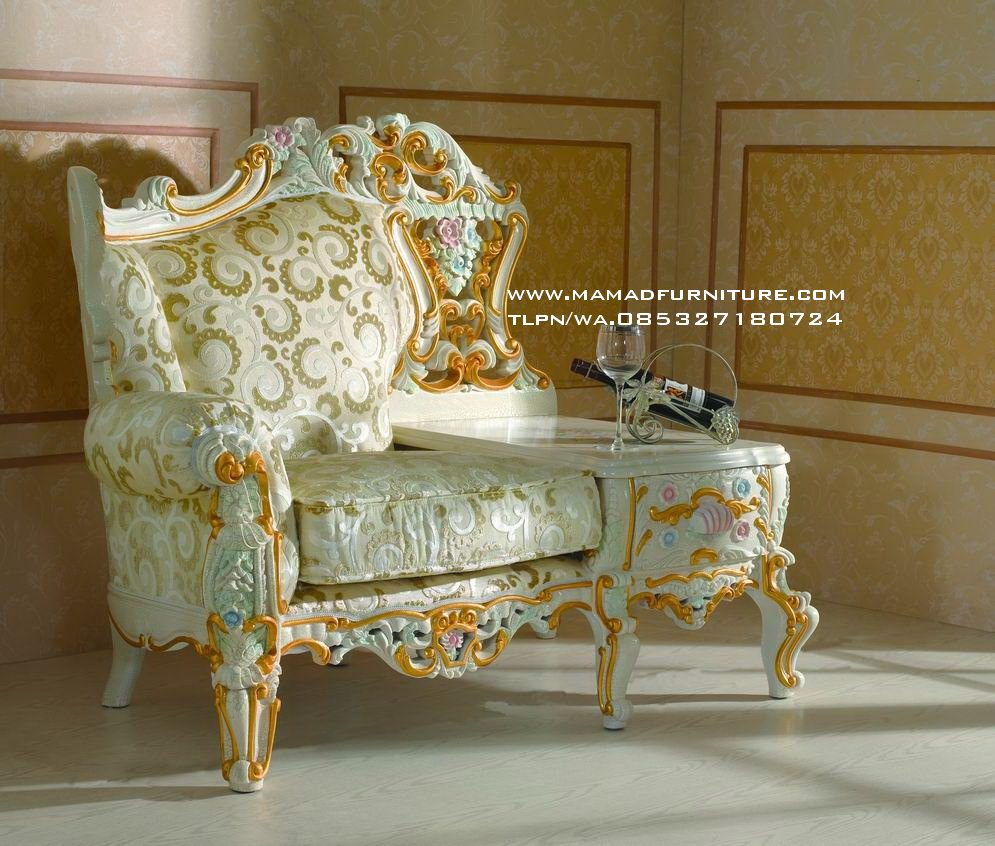Carving Chair: (63, 117, 816, 790)
